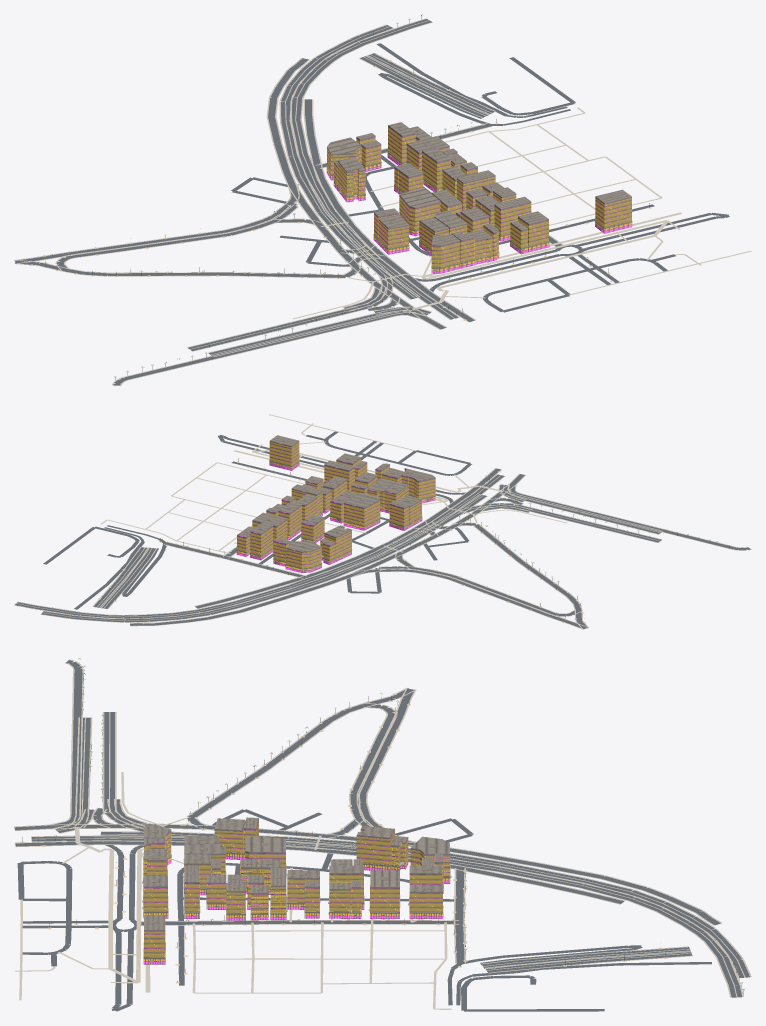
Rendered from urban-west-stage6.glb.
3 renders of one model, top to bottom at view 1: azimuth 30°, elevation 25°; view 2: azimuth 150°, elevation 25°; view 3: azimuth 270°, elevation 25°, orthographic. The views are drawn at different scales.
Visible parts, largest first — view 1: urban-street-west-roads, urban-street-west-sidewalks, urban-street-west-promenades, urban-hotel-2203-W203, urban-hotel-2237-W237, urban-hotel-2253-W253, urban-hotel-2212-W212, urban-hotel-2248-W248, urban-hotel-2216-W216, urban-hotel-2230-W230, urban-hotel-2208-W208, urban-hotel-2228-W228 (+5 smaller); view 2: urban-street-west-roads, urban-street-west-sidewalks, urban-street-west-promenades, urban-hotel-2237-W237, urban-hotel-743-W255, urban-hotel-2203-W203, urban-hotel-2228-W228, urban-hotel-2212-W212, urban-hotel-2253-W253, urban-hotel-2230-W230, urban-hotel-2216-W216, urban-hotel-2224-W224 (+8 smaller); view 3: urban-street-west-roads, urban-street-west-sidewalks, urban-street-west-promenades, urban-hotel-2253-W253, urban-hotel-2224-W224, urban-hotel-2226-W226, urban-hotel-2203-W203, urban-hotel-2208-W208, urban-hotel-2248-W248, urban-hotel-2237-W237, urban-hotel-743-W255, urban-hotel-2231-W231 (+12 smaller).
Part boxes in pixels (bbox=[...]): urban-street-west-roads: bbox=[15, 19, 729, 385]; urban-street-west-sidewalks: bbox=[14, 18, 564, 385]; urban-street-west-promenades: bbox=[292, 107, 751, 319]; urban-hotel-2203-W203: bbox=[595, 189, 632, 233]; urban-hotel-2237-W237: bbox=[399, 188, 439, 236]; urban-hotel-2253-W253: bbox=[337, 157, 365, 202]; urban-hotel-2212-W212: bbox=[431, 233, 460, 273]; urban-hotel-2248-W248: bbox=[378, 215, 409, 254]; urban-hotel-2216-W216: bbox=[494, 196, 531, 241]; urban-hotel-2230-W230: bbox=[422, 147, 450, 191]; urban-hotel-2208-W208: bbox=[518, 211, 549, 252]; urban-hotel-2228-W228: bbox=[387, 122, 415, 165]; urban-street-west-roads: bbox=[15, 431, 750, 629]; urban-street-west-sidewalks: bbox=[14, 468, 751, 629]; urban-street-west-promenades: bbox=[100, 414, 567, 554]; urban-hotel-2237-W237: bbox=[343, 492, 380, 530]; urban-hotel-743-W255: bbox=[285, 540, 321, 572]; urban-hotel-2203-W203: bbox=[269, 435, 299, 470]; urban-hotel-2228-W228: bbox=[250, 523, 273, 560]; urban-hotel-2212-W212: bbox=[408, 471, 435, 503]; urban-hotel-2253-W253: bbox=[324, 525, 352, 561]; urban-hotel-2230-W230: bbox=[278, 502, 301, 539]; urban-hotel-2216-W216: bbox=[324, 460, 354, 491]; urban-hotel-2224-W224: bbox=[252, 512, 287, 546]; urban-street-west-roads: bbox=[14, 660, 749, 1011]; urban-street-west-sidewalks: bbox=[14, 659, 751, 997]; urban-street-west-promenades: bbox=[15, 772, 451, 1009]; urban-hotel-2253-W253: bbox=[356, 826, 394, 870]; urban-hotel-2224-W224: bbox=[368, 870, 400, 918]; urban-hotel-2226-W226: bbox=[409, 885, 443, 918]; urban-hotel-2203-W203: bbox=[143, 915, 165, 964]; urban-hotel-2208-W208: bbox=[142, 875, 168, 918]; urban-hotel-2248-W248: bbox=[214, 818, 245, 859]; urban-hotel-2237-W237: bbox=[245, 836, 287, 877]; urban-hotel-743-W255: bbox=[410, 836, 451, 883]; urban-hotel-2231-W231: bbox=[287, 870, 320, 909].
Size of the model in its own units: 1003 by 49.18 by 888.
Materials: 8 (1 with a texture image).
